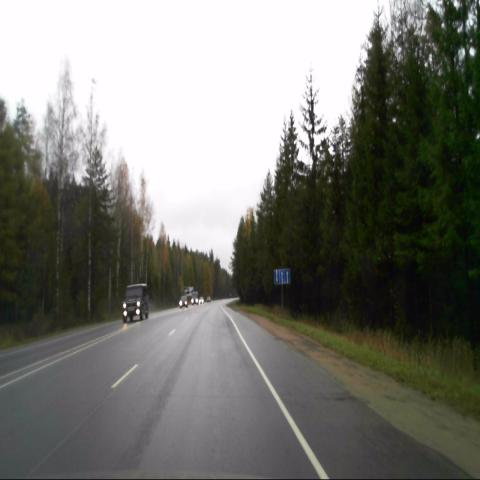5_15_7: (274, 268, 290, 285)
